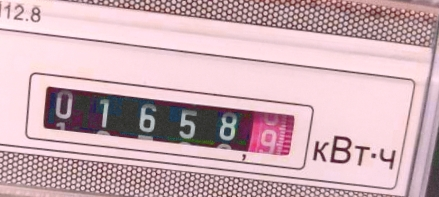0: (51, 88, 75, 120)
1: (94, 96, 114, 129)
5: (175, 107, 199, 140)
6: (135, 99, 159, 134)
8: (216, 108, 239, 142)
9: (255, 126, 279, 156)
screen: (12, 62, 320, 177)
